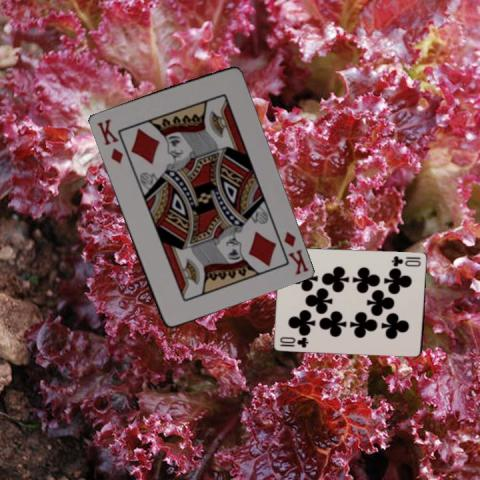10c: (389, 253, 422, 268), (278, 334, 310, 349)
Kd: (93, 116, 124, 166), (281, 228, 310, 277)
